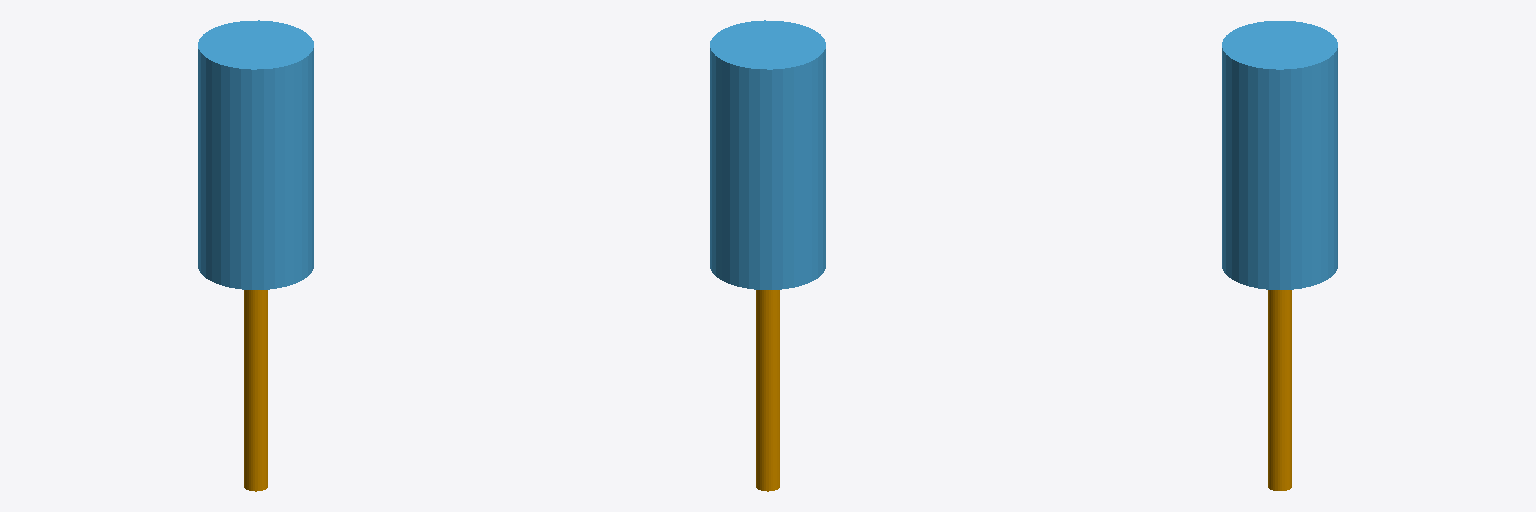
robot.urdf — screwdriver_on_the_table:
<?xml version="1.0" ?>
<!-- this is the one without any virtual joints and links -->
<robot name="screwdriver_on_the_table">
<link name="screwdriver_stick">
    <inertial>
      <mass value="0.05"/>
      <!-- <friction value="1.0"/> -->
      <inertia ixx="0.000041979" ixy="0.0" ixz="0.0" iyy="0.000041979" iyz="0.0" izz="0.000000625"/>
    </inertial>
    <visual>
        <origin rpy="0 0 0" xyz="0 0 0.05"/>
        <geometry>
            <cylinder radius="0.005" length="0.1"/>
        </geometry>
        <!-- <material name="White">
	 	    <color rgba="0.9 0.9 0.9 0.5"/>
        </material> -->
    </visual>
    <collision>
        <origin rpy="0 0 0" xyz="0 0 0.05"/>
        <geometry>
            <cylinder radius="0.005" length="0.1"/>
        </geometry>
    </collision>
</link>

<gazebo reference="screwdriver_body">
    <mu1>0.302586</mu1>
    <mu2>0.768506</mu2>
    <!-- Isaac Sim maps mu1/mu2 to PhysX static/dynamic friction during URDF→USD import -->
</gazebo>

<joint name="screwdriver_stick_body_joint" type="fixed">
    <parent link="screwdriver_stick"/>
    <child link="screwdriver_body"/>
    <origin rpy="0 0 0" xyz="0 0 0.1"/> 
    <axis xyz="0 0 1"/>
</joint>

<link name="screwdriver_body">
    <inertial>
      <mass value="0.074696"/>
      <inertia ixx="0.000072911" ixy="0.0" ixz="0.0" iyy="0.000072911" iyz="0.0" izz="0.000021329"/>
    </inertial>
    <visual>
        <origin rpy="0 0 0" xyz="0 0 0.05"/>
        <geometry>
            <cylinder radius="0.023898" length="0.1"/>
        </geometry>
        <!-- <material name="Red1">
	 	    <color rgba="0.9 0. 0. 0.5"/>
        </material> -->
    </visual>
    <collision>
        <origin rpy="0 0 0" xyz="0 0 0.05"/>
        <geometry>
            <cylinder radius="0.023898" length="0.1"/>
        </geometry>
    </collision>
</link>

<!-- <joint name="screwdriver_body_cap_joint" type="revolute">
    <parent link="screwdriver_body"/>
    <child link="screwdriver_cap"/>
    <origin rpy="0 0 0" xyz="0 0 0.1"/> 
    <axis xyz="0 0 1"/>
</joint>

<link name="screwdriver_cap">
    <inertial>
      <mass value="0.005"/>
      <inertia ixx="0.00001" ixy="0.0" ixz="0.0" iyy="0.000005" iyz="0.0" izz="0.000005"/>
    </inertial>
    <visual>
        <origin rpy="0 0 0" xyz="0 0 0.0006"/>
        <geometry>
            <cylinder radius="0.02" length="0.001"/>
        </geometry>
        <material name="Yellow">
	 	    <color rgba="0.9 0.9 0. 1.0"/>
        </material>
    </visual>
    <collision>
        <origin rpy="0 0 0" xyz="0 0 0.0005"/>
        <geometry>
            <cylinder radius="0.02" length="0.001"/>
        </geometry>
    </collision>
</link> -->

</robot>

--- Render facts (derived) ---
3 views of the same robot in one strip: view 1: azimuth 30°, elevation 25°; view 2: azimuth 150°, elevation 25°; view 3: azimuth 270°, elevation 25° (orthographic).
Model screwdriver_on_the_table with 2 links and 1 joints (1 fixed), rooted at screwdriver_stick, posed every joint at zero.
Links seen in each view (by area): view 1: screwdriver_body, screwdriver_stick; view 2: screwdriver_body, screwdriver_stick; view 3: screwdriver_body, screwdriver_stick.
Boxes of the visible links, <box> form: screwdriver_body: <box>198,20,313,289</box>; screwdriver_stick: <box>244,290,267,491</box>; screwdriver_body: <box>710,20,825,289</box>; screwdriver_stick: <box>756,290,779,491</box>; screwdriver_body: <box>1222,21,1337,289</box>; screwdriver_stick: <box>1268,290,1291,490</box>.
Bounding box of the posed robot: 0.0478 × 0.0478 × 0.2 m (x, y, z).
Geometry: primitives only (box / cylinder / sphere), no mesh files.
